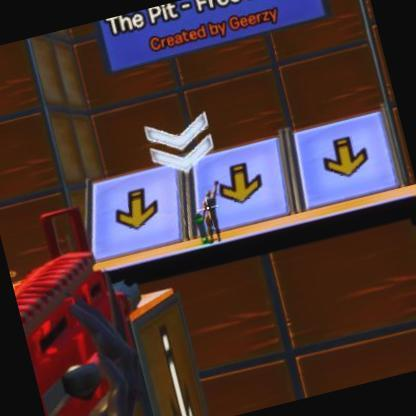person: (200, 186, 230, 240)
